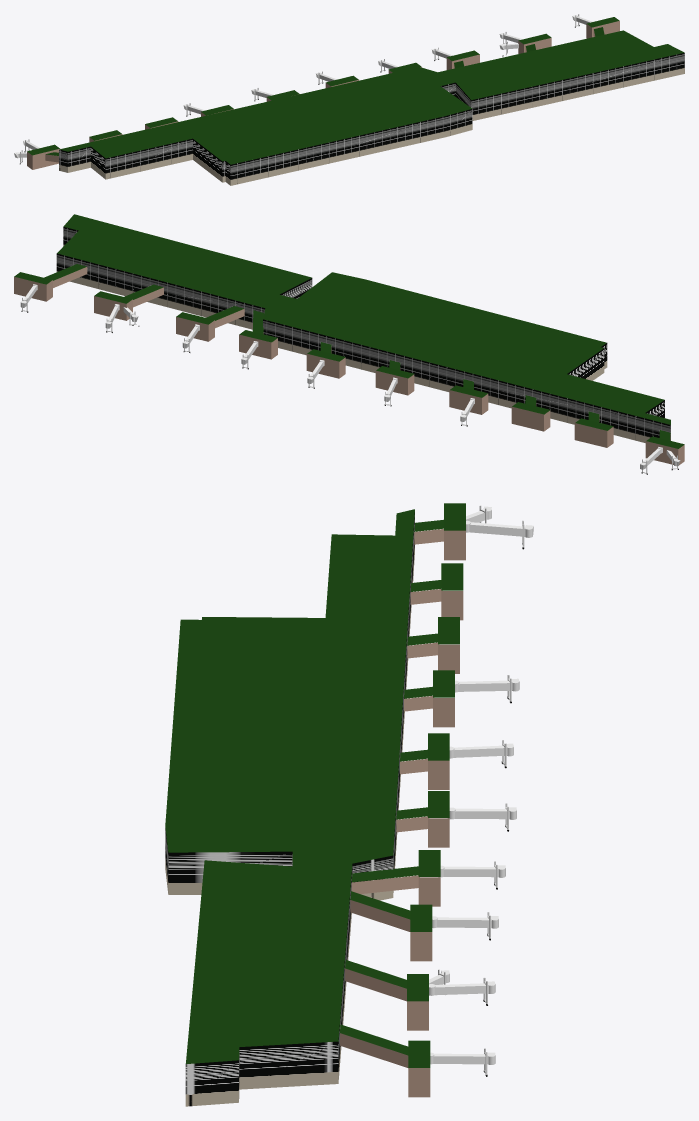
File: FUEAirport.glb
The picture shows the model from 3 angles, top to bottom: view 1: azimuth 30°, elevation 25°; view 2: azimuth 150°, elevation 25°; view 3: azimuth 270°, elevation 25°; orthographic projection. The views are drawn at different scales.
Parts seen in each view (by area): view 1: Buffer Object 14, Buffer Object 13, Merged Objects 1 (×2); view 2: Buffer Object 14, Buffer Object 13, Merged Objects 1 (×10), Merged Objects (×4); view 3: Buffer Object 14, Merged Objects 1 (×10), Buffer Object 13, Merged Objects (×9).
Boxes of the visible parts, x1,y1,x2,y2 form: Buffer Object 14: [59, 30, 684, 164]; Buffer Object 13: [59, 52, 684, 185]; Merged Objects 1 (×2): [27, 21, 619, 169]; Buffer Object 14: [57, 214, 670, 424]; Buffer Object 13: [56, 227, 670, 442]; Merged Objects 1 (×10): [14, 267, 684, 465]; Merged Objects (×4): [14, 264, 277, 342]; Buffer Object 14: [165, 509, 414, 1063]; Merged Objects 1 (×10): [340, 529, 465, 1097]; Buffer Object 13: [165, 512, 414, 1106]; Merged Objects (×9): [340, 503, 465, 1067].
Size of the model in its own units: 609 by 20.77 by 163.
61 materials, 1 textured.
